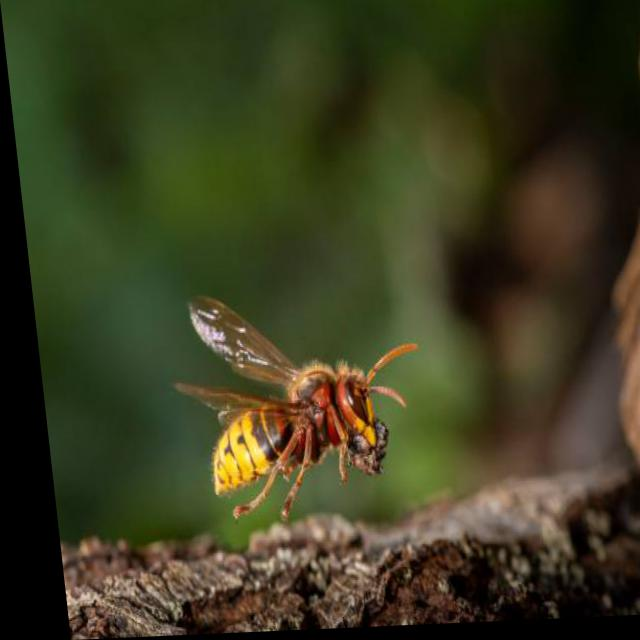Vespa Crabro: (128, 263, 446, 536)
